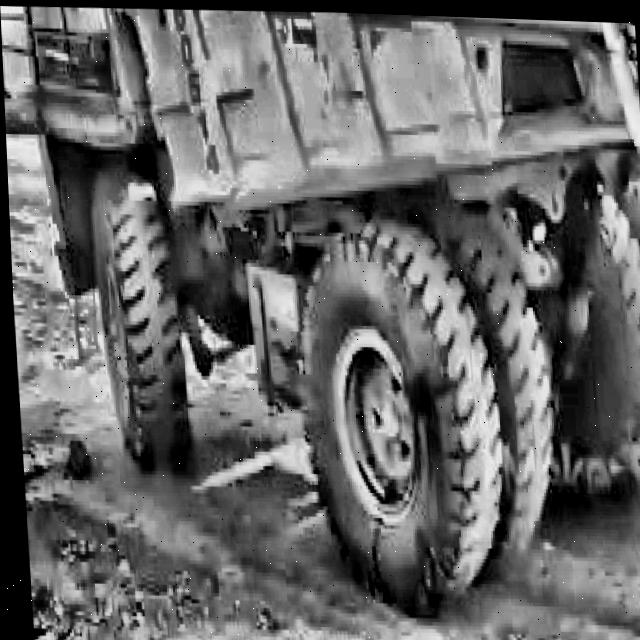dump_truck: (0, 0, 640, 625)
